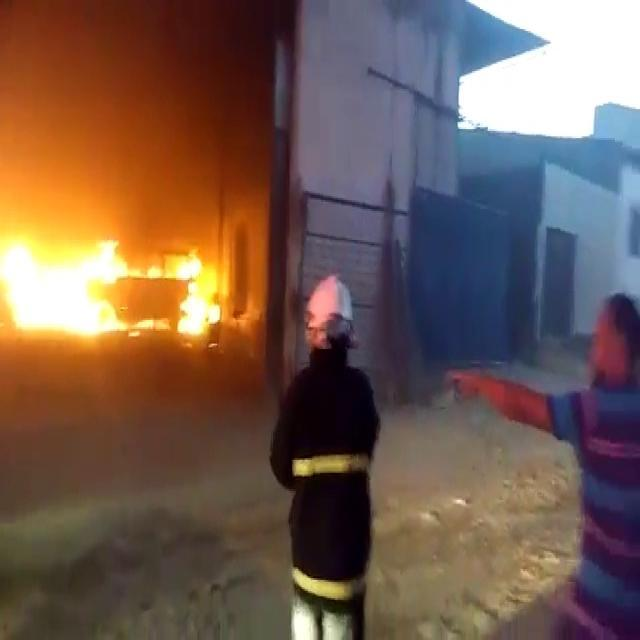Fire: (2, 210, 227, 363)
